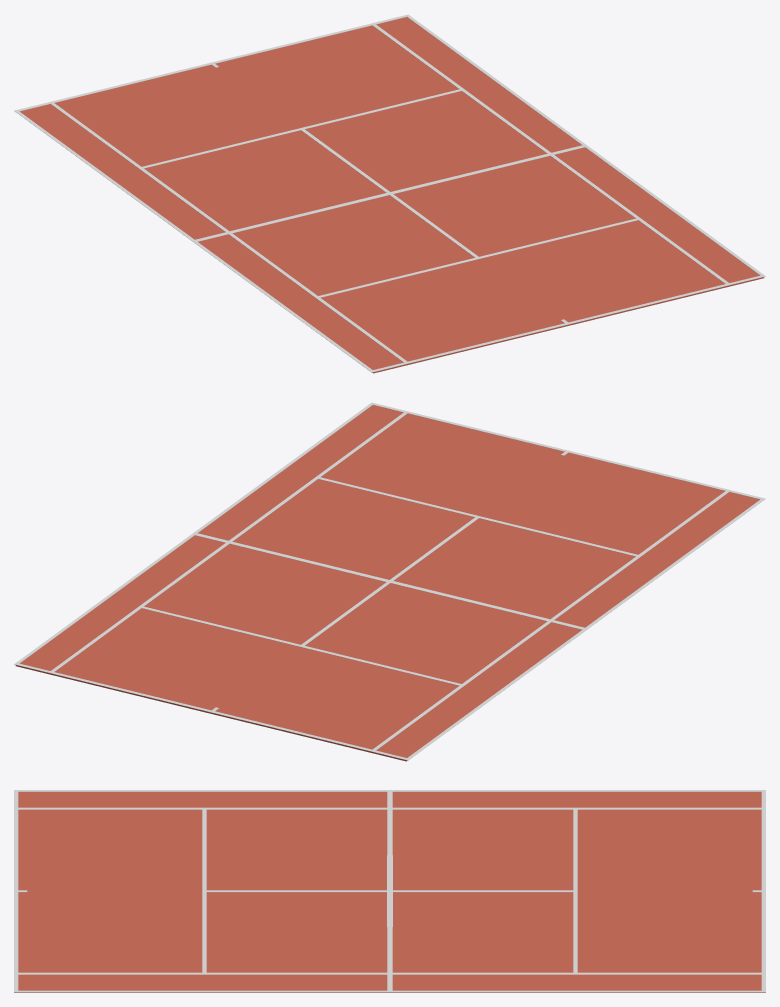
The model's file is Tennis Court.fbx.
3 renders of one model, top to bottom at view 1: azimuth 30°, elevation 25°; view 2: azimuth 150°, elevation 25°; view 3: azimuth 270°, elevation 25°, orthographic. The views are drawn at different scales.
Parts seen in each view (by area): view 1: Tennis Court; view 2: Tennis Court; view 3: Tennis Court.
Part boxes in pixels (x1,y1,x2,y2): Tennis Court: [14, 14, 765, 373]; Tennis Court: [14, 402, 765, 761]; Tennis Court: [14, 790, 765, 992].
Size of the model in its own units: 4412 by 16 by 6934.
